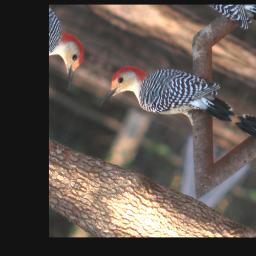Woodpecker: (98, 39, 242, 163)
